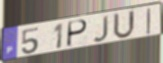1: (52, 22, 65, 51)
5: (20, 26, 40, 56)
I: (146, 7, 152, 36)
J: (92, 14, 110, 43)
P: (65, 19, 89, 49)
U: (112, 10, 137, 40)
